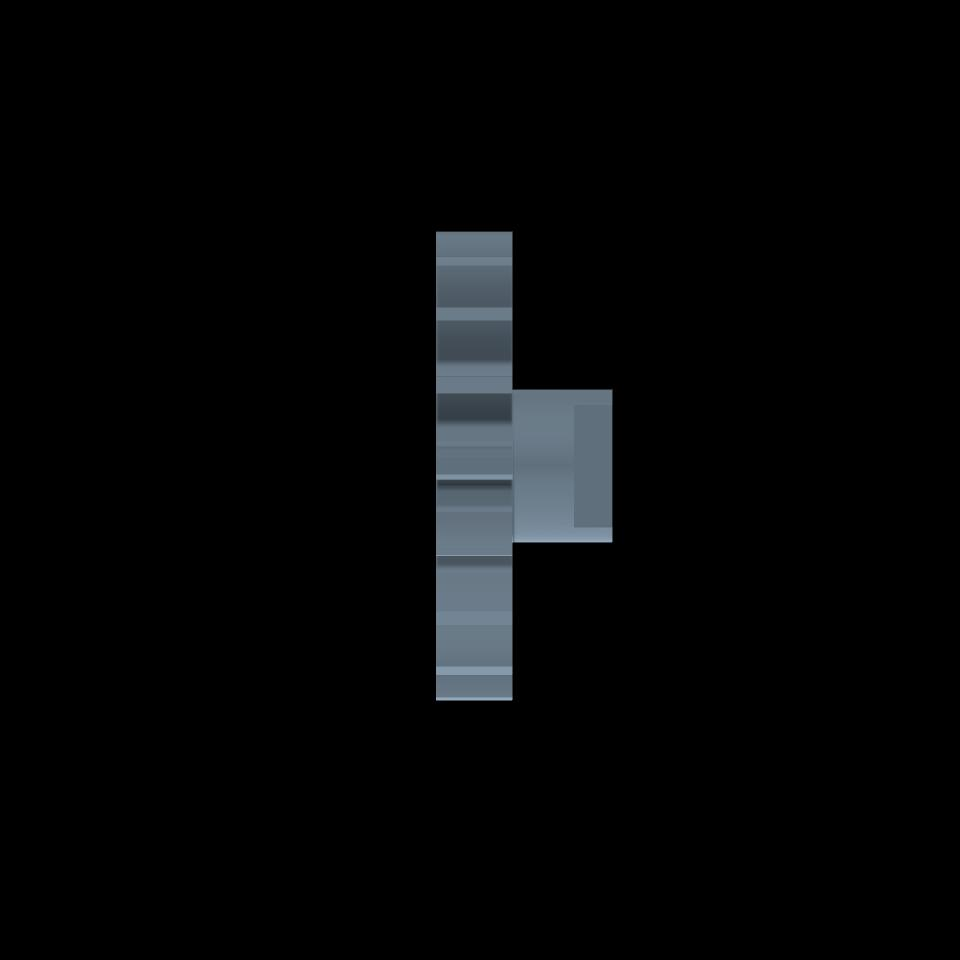Straight: (435, 232, 512, 700)
